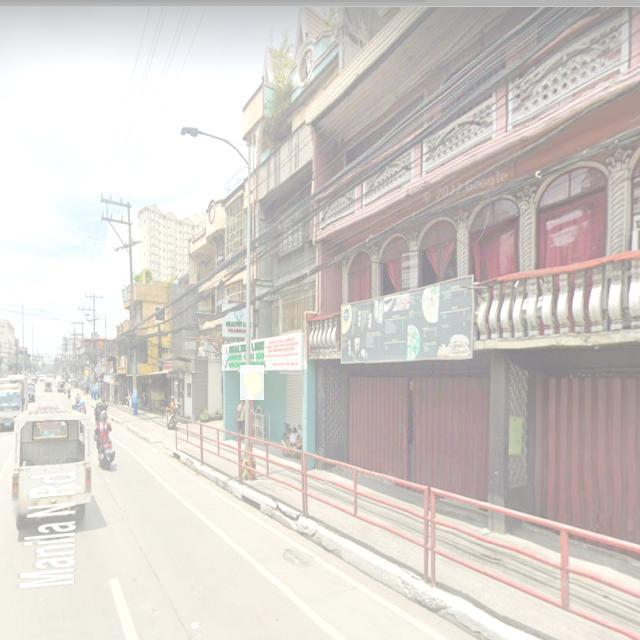bike lane: (240, 365, 264, 400)
